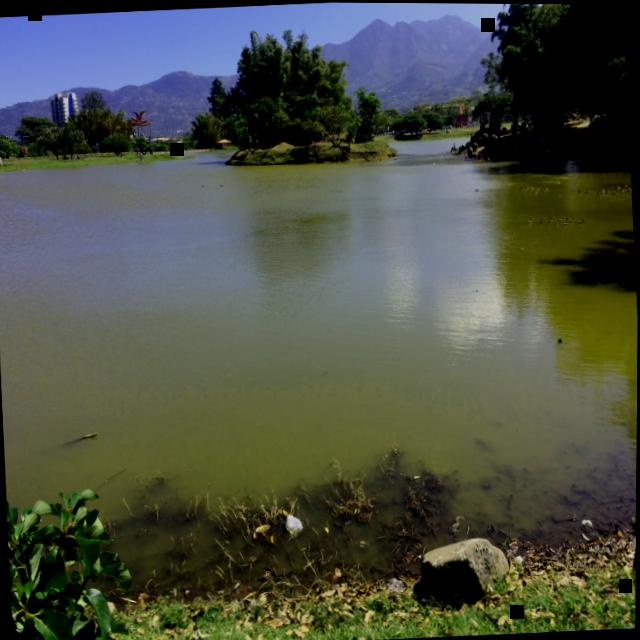Other plastic bottle: (582, 518, 592, 526)
Single-use carrier bag: (285, 514, 303, 536)
